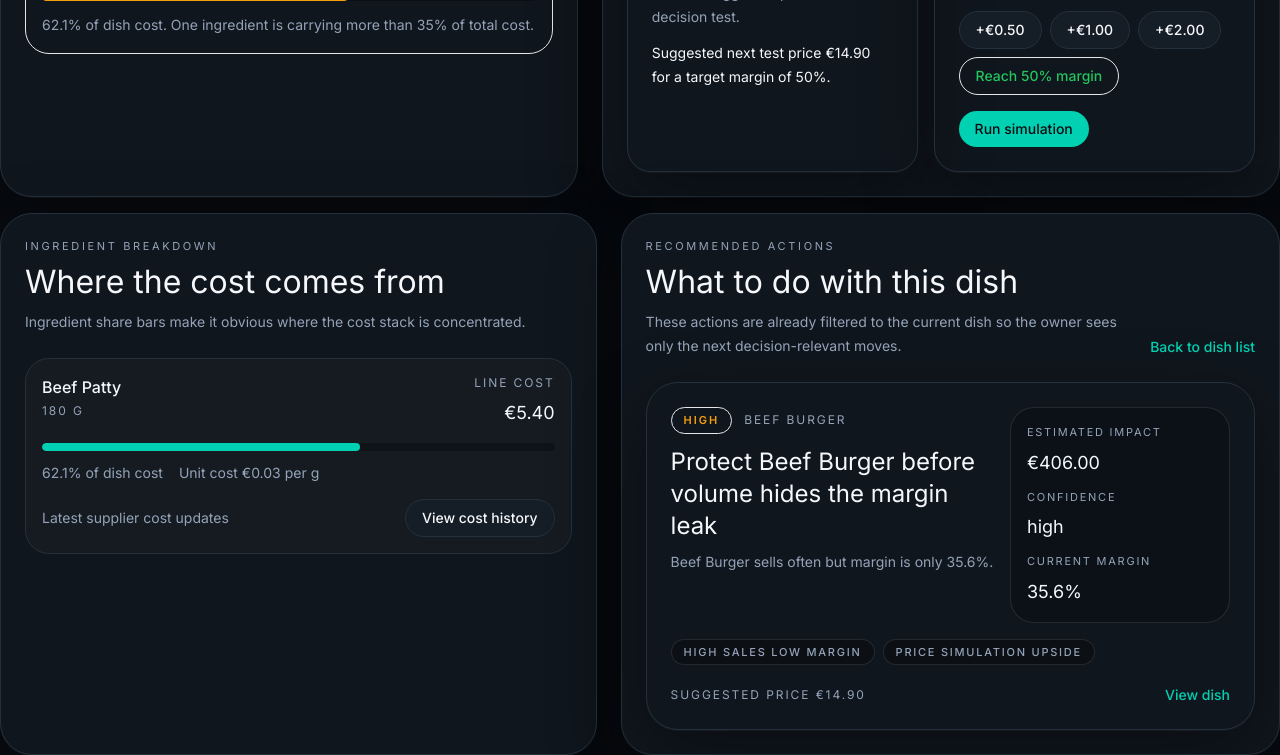
Test case: DishDetailPage › renders the cost driver section, simulator target-margin controls, and cost history panel
This screenshot has width=1280, height=755.
(page scrolled)
Expected: the button "Reach 50% margin" is shown, x1=959 y1=56 x2=1119 y2=94
Click the button "View cost history" at (480, 518), box x1=405 y1=499 x2=555 y2=537
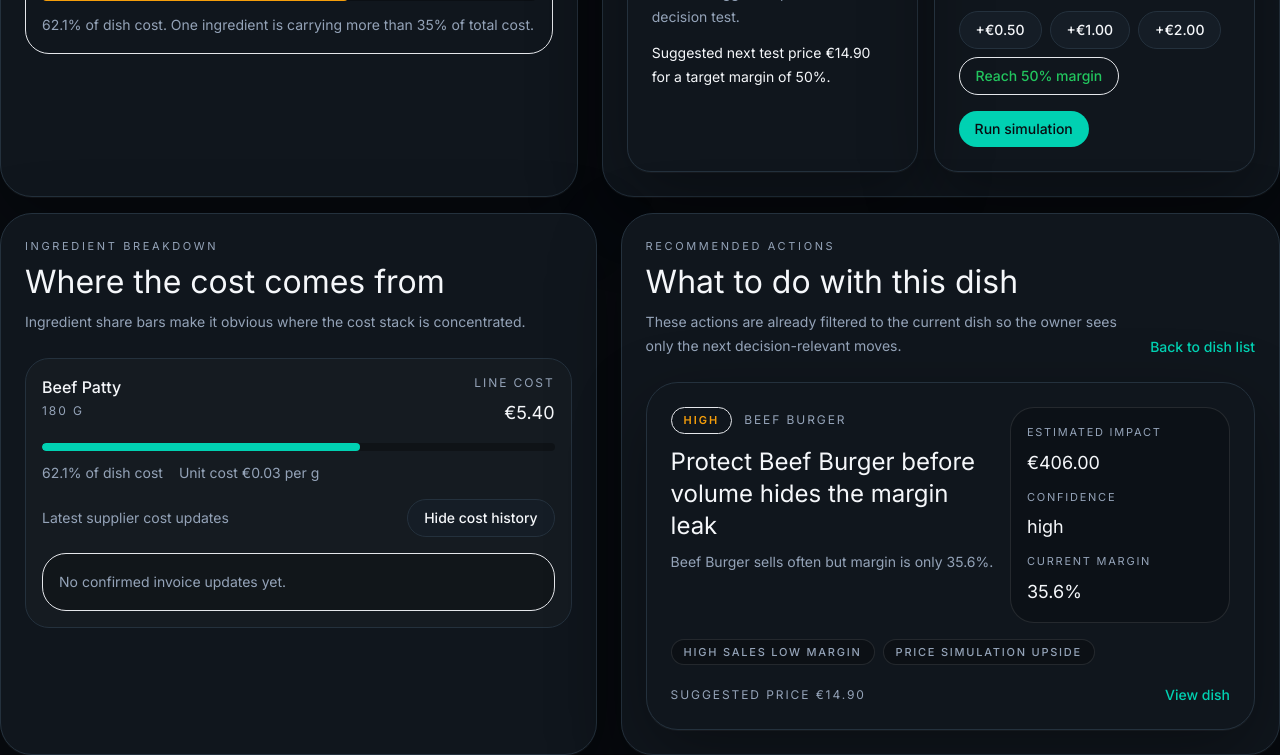
Expected: the text "No confirmed invoice updates yet." is shown, x1=59 y1=573 x2=286 y2=590
